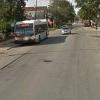Bus: (12, 17, 50, 46)
